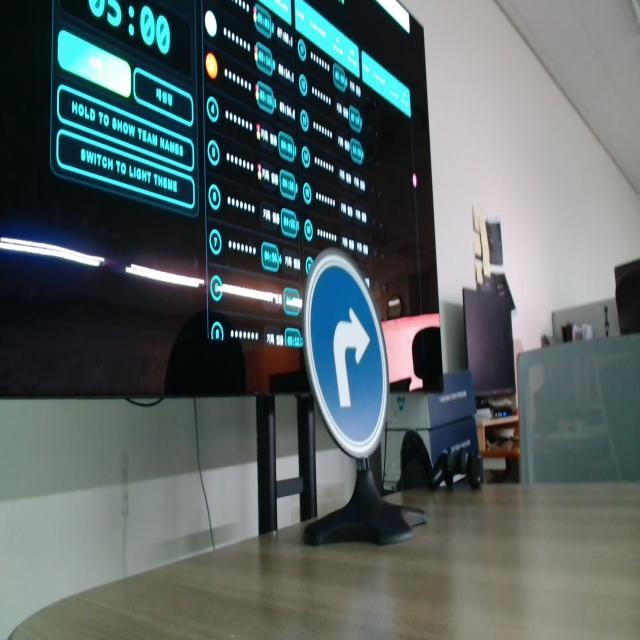right_dierection: (297, 230, 399, 485)
